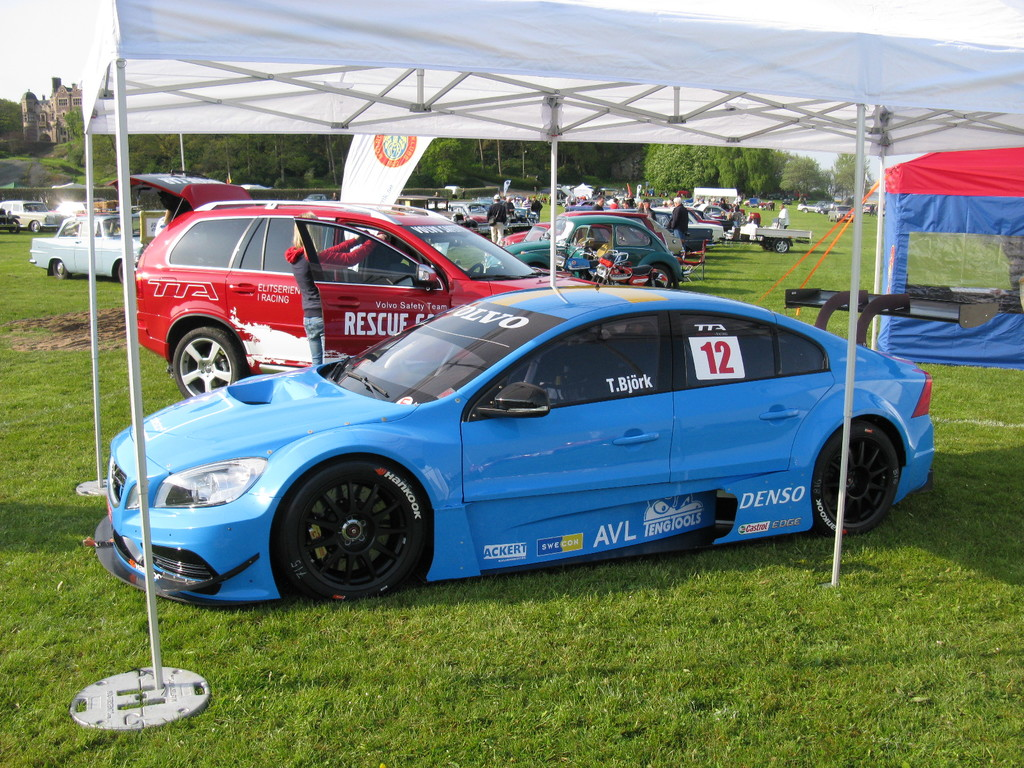Car: (87, 265, 938, 603), (0, 166, 733, 398), (797, 198, 858, 224), (778, 195, 794, 207), (863, 199, 878, 211)
